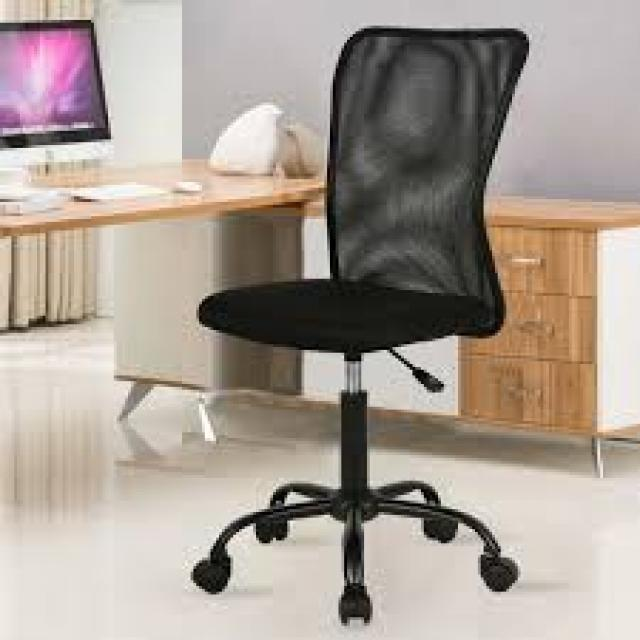chair: (135, 11, 566, 634)
